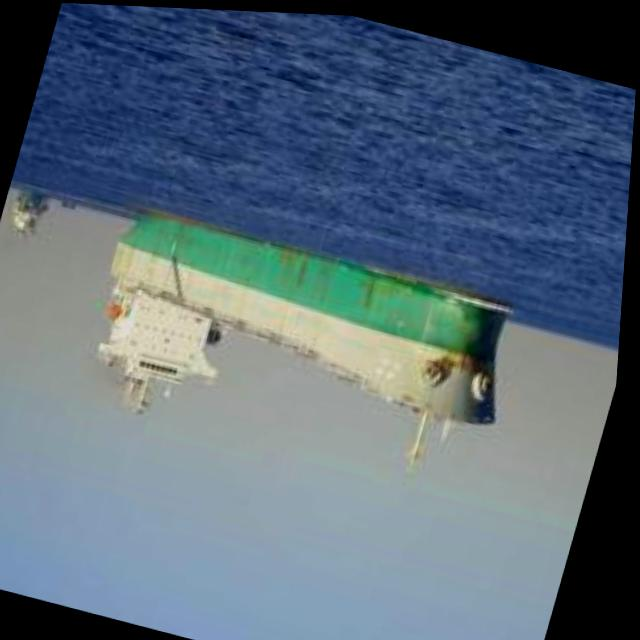ship2: (102, 205, 518, 474)
